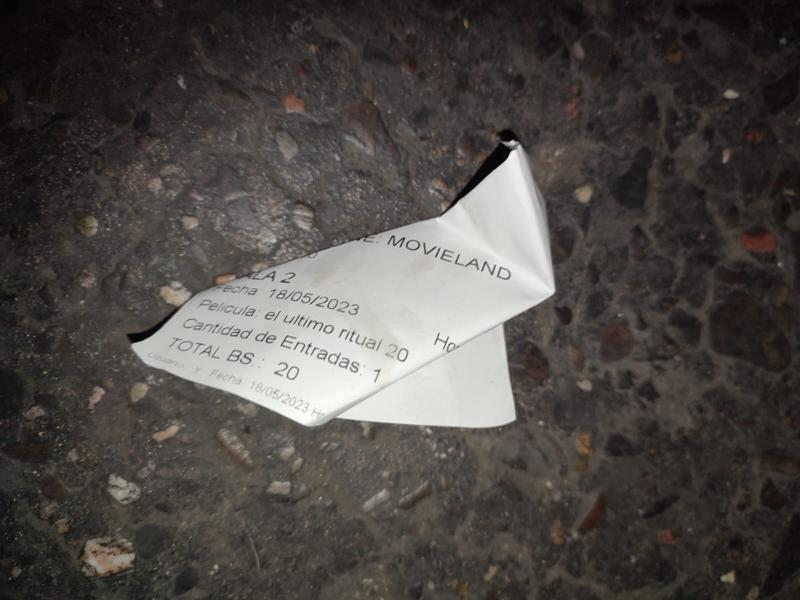papel: (128, 137, 557, 431)
